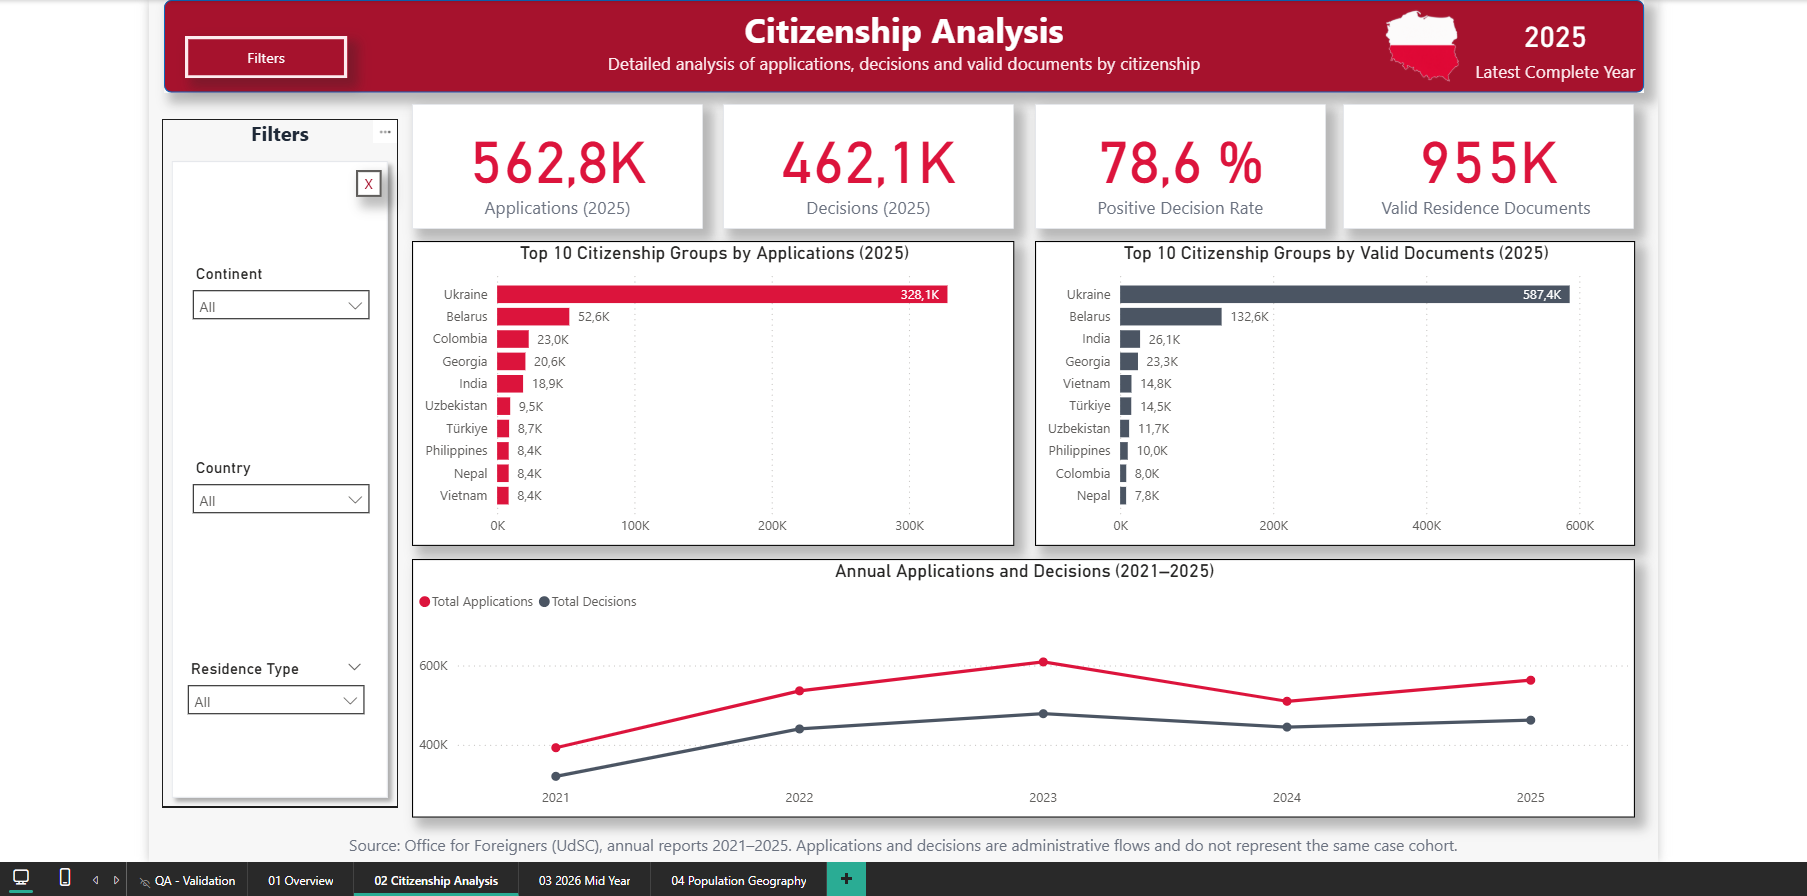

Layout of this report page (visuals, bound fields, positions):
{"tool":"powerbi","page":{"name":"02 Citizenship Analysis","canvas":[1400,800],"ordinal":2},"visuals":[{"type":"shape","box":[14.3,0,1373.7,86],"z":0},{"type":"shape","title":"Filters","box":[12.5,110,218.6,639.1],"z":0,"group":"g1"},{"type":"textbox","box":[14.3,0,1373.7,86],"z":1000},{"type":"actionButton","box":[192.9,157.8,23.9,25.1],"z":1000,"group":"g1"},{"type":"card","fields":{"Values":["_Measures.Latest Complete Year"]},"box":[1222,1.2,166,84.8],"z":2000},{"type":"slicer","title":"Country","fields":{"Values":["dim_country_conformed.continent"]},"box":[30.6,241.2,183.8,85],"z":2000,"group":"g1"},{"type":"slicer","title":"Country","fields":{"Values":["dim_country_conformed.country_name_standard_en"]},"box":[30.6,421.2,183.8,85],"z":3000,"group":"g1"},{"type":"textbox","box":[0,768.1,1400,32.3],"z":3000},{"type":"actionButton","box":[33.4,33.4,150.5,39.4],"z":4000},{"type":"slicer","title":"Country","fields":{"Values":["dim_residence_type.residence_type_name_en"]},"box":[26.9,607.5,183.8,85],"z":4000,"group":"g1"},{"type":"group","id":"g1","title":"Citizenship Filter Panel","box":[12.5,110,218.6,639.1],"z":5000},{"type":"card","fields":{"Values":["_Measures.Applications Latest Year"]},"box":[243.7,96.8,270,115.9],"z":6000},{"type":"card","fields":{"Values":["_Measures.Decisions Latest Year"]},"box":[532.8,96.8,270,115.9],"z":7000},{"type":"card","fields":{"Values":["_Measures.Positive Decision Rate Latest Year"]},"box":[821.8,96.8,270,115.9],"z":8000},{"type":"card","fields":{"Values":["_Measures.Core Valid Documents Latest Year"]},"box":[1108.5,96.8,270,115.9],"z":9000},{"type":"image","box":[1108.9,0,144,85.5],"z":10000},{"type":"clusteredBarChart","title":"Top 10 Citizenship Groups by Applications (2025)","fields":{"Category":["dim_country_conformed.country_name_standard_en"],"Y":["_Measures.Applications Latest Year"]},"box":[243.8,223.6,559,283.1],"z":11000},{"type":"clusteredBarChart","title":"Top 10 Citizenship Groups by Valid Documents (2025)","fields":{"Category":["dim_country_conformed.country_name_standard_en"],"Y":["_Measures.Core Valid Documents Latest Year"]},"box":[821.9,223.6,556.7,283.1],"z":12000},{"type":"lineChart","title":"Annual Applications and Decisions (2021–2025)","fields":{"Category":["dim_period_conformed.year"],"Y":["_Measures.Total Applications","_Measures.Total Decisions"]},"box":[243.8,518.6,1134.7,240.3],"z":13000}]}

Visuals, with their boxes on the page's 1400x800 design canvas (x1, y1, x2, y2). These are canvas units, not pixel positions in the 1807x896 screenshot, which may show the page scaled, cropped or inside an application window:
shape: {"left": 14, "top": 0, "right": 1388, "bottom": 86}
"Filters" shape: {"left": 12, "top": 110, "right": 231, "bottom": 749}
textbox: {"left": 14, "top": 0, "right": 1388, "bottom": 86}
actionButton: {"left": 193, "top": 158, "right": 217, "bottom": 183}
card - _Measures.Latest Complete Year: {"left": 1222, "top": 1, "right": 1388, "bottom": 86}
"Country" slicer: {"left": 31, "top": 241, "right": 214, "bottom": 326}
"Country" slicer: {"left": 31, "top": 421, "right": 214, "bottom": 506}
textbox: {"left": 0, "top": 768, "right": 1400, "bottom": 800}
actionButton: {"left": 33, "top": 33, "right": 184, "bottom": 73}
"Country" slicer: {"left": 27, "top": 608, "right": 211, "bottom": 692}
"Citizenship Filter Panel" group: {"left": 12, "top": 110, "right": 231, "bottom": 749}
card - _Measures.Applications Latest Year: {"left": 244, "top": 97, "right": 514, "bottom": 213}
card - _Measures.Decisions Latest Year: {"left": 533, "top": 97, "right": 803, "bottom": 213}
card - _Measures.Positive Decision Rate Latest Year: {"left": 822, "top": 97, "right": 1092, "bottom": 213}
card - _Measures.Core Valid Documents Latest Year: {"left": 1108, "top": 97, "right": 1378, "bottom": 213}
image: {"left": 1109, "top": 0, "right": 1253, "bottom": 86}
"Top 10 Citizenship Groups by Applications (2025)" clusteredBarChart: {"left": 244, "top": 224, "right": 803, "bottom": 507}
"Top 10 Citizenship Groups by Valid Documents (2025)" clusteredBarChart: {"left": 822, "top": 224, "right": 1379, "bottom": 507}
"Annual Applications and Decisions (2021–2025)" lineChart: {"left": 244, "top": 519, "right": 1378, "bottom": 759}
